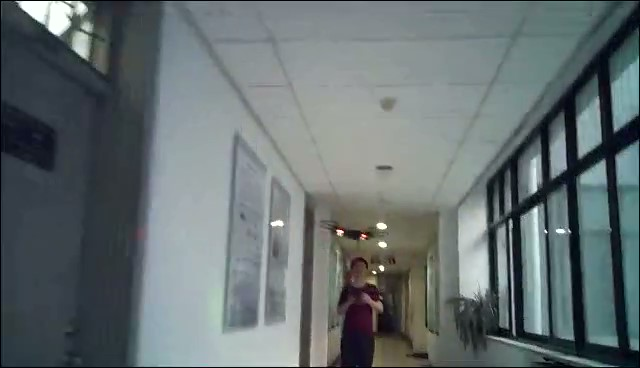drone: (318, 219, 390, 248)
person: (336, 256, 383, 368)
